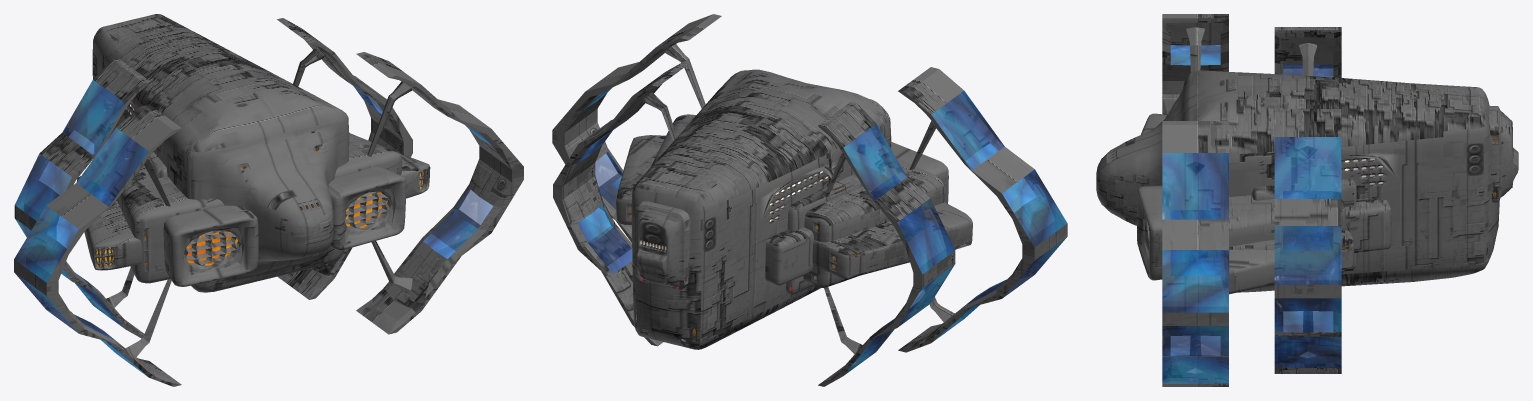
File: transporter.glb
3 renders of one model, left to right at view 1: azimuth 30°, elevation 25°; view 2: azimuth 150°, elevation 25°; view 3: azimuth 270°, elevation 25°, orthographic.
Parts seen in each view (by area): view 1: MaterialFBXASC032FBXASC0352142150880, MaterialFBXASC032FBXASC0352142147988, Engine; view 2: MaterialFBXASC032FBXASC0352142150880, MaterialFBXASC032FBXASC0352142147988; view 3: MaterialFBXASC032FBXASC0352142150880, MaterialFBXASC032FBXASC0352142147988.
Boxes of the visible parts, box(x1,y1,x2,y2) form: MaterialFBXASC032FBXASC0352142150880: box(14, 14, 523, 386); MaterialFBXASC032FBXASC0352142147988: box(14, 79, 492, 376); Engine: box(95, 172, 423, 266); MaterialFBXASC032FBXASC0352142150880: box(552, 14, 1067, 386); MaterialFBXASC032FBXASC0352142147988: box(577, 88, 1066, 375); MaterialFBXASC032FBXASC0352142150880: box(1096, 14, 1518, 386); MaterialFBXASC032FBXASC0352142147988: box(1162, 45, 1341, 383).
Size of the model in its own units: 58.88 by 30.28 by 44.24.
Materials: 6 (3 with a texture image).
